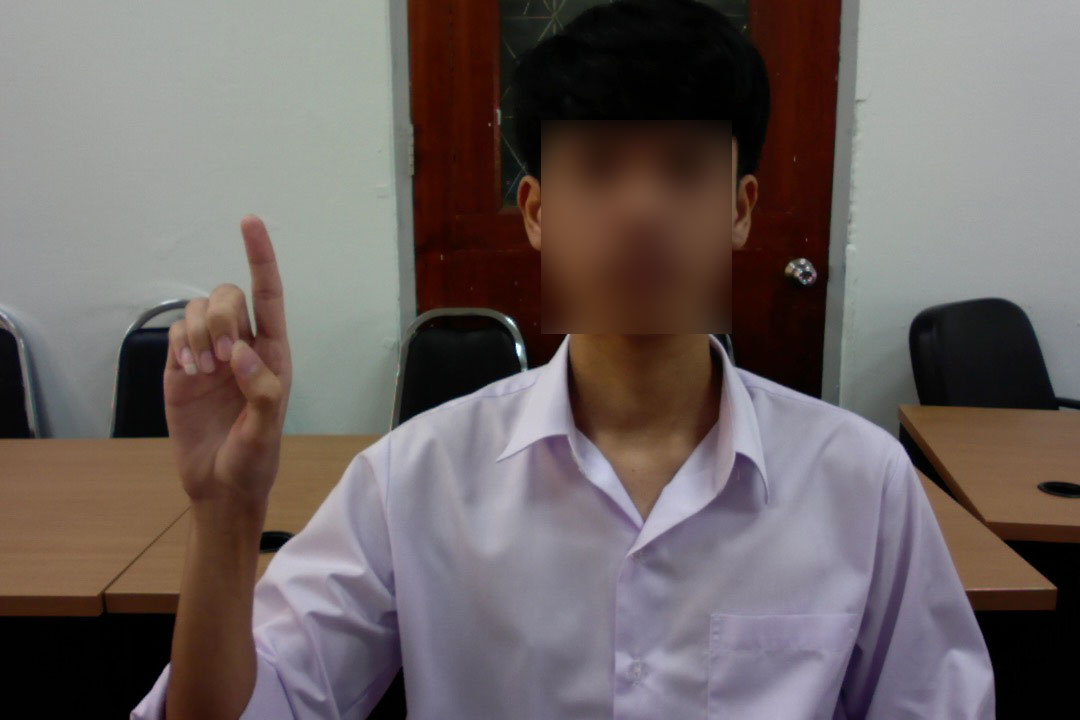dor: (160, 200, 296, 530)
